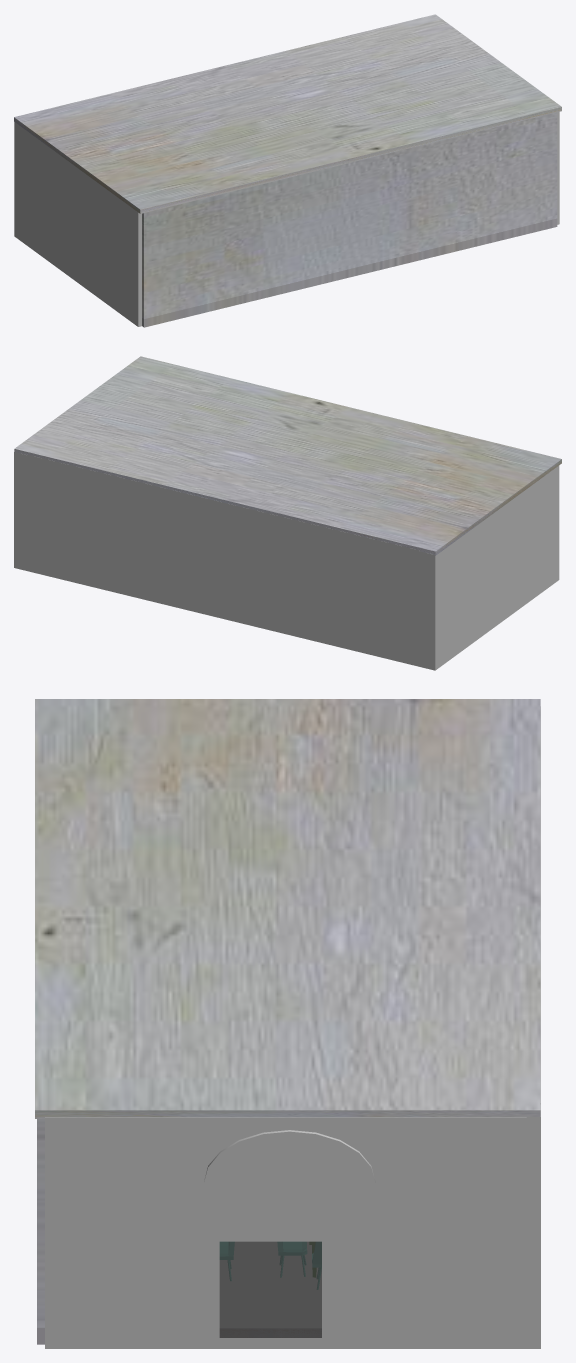
Rendered from CardGameRoom.fbx.
3 views of the same model, one above another, from view 1: azimuth 30°, elevation 25°; view 2: azimuth 150°, elevation 25°; view 3: azimuth 270°, elevation 25° (orthographic). The views are drawn at different scales.
Visible parts, largest first — view 1: bsmntout:bsmntout:pCube2, pCube1, bsmntout:bsmntout:pasted__pCube1; view 2: bsmntout:bsmntout:pasted__pCube1, bsmntout:bsmntout:pCube2; view 3: bsmntout:bsmntout:pCube2, bsmntout:bsmntout:pasted__pCube1, pCylinder1, bsmntout:bsmntout:pCube3, pCube2, pCube1.
Boxes of the visible parts, bbox=[...] form: bsmntout:bsmntout:pCube2: bbox=[14, 14, 561, 213]; pCube1: bbox=[142, 112, 557, 327]; bsmntout:bsmntout:pasted__pCube1: bbox=[14, 112, 559, 326]; bsmntout:bsmntout:pasted__pCube1: bbox=[14, 452, 559, 670]; bsmntout:bsmntout:pCube2: bbox=[14, 356, 561, 555]; bsmntout:bsmntout:pCube2: bbox=[35, 699, 540, 1118]; bsmntout:bsmntout:pasted__pCube1: bbox=[45, 706, 540, 1348]; pCylinder1: bbox=[204, 1130, 375, 1235]; bsmntout:bsmntout:pCube3: bbox=[219, 1241, 321, 1337]; pCube2: bbox=[220, 1242, 321, 1332]; pCube1: bbox=[37, 1119, 321, 1344].
Bounding box in the file's own units: 51.43 × 13.79 × 26.51.
